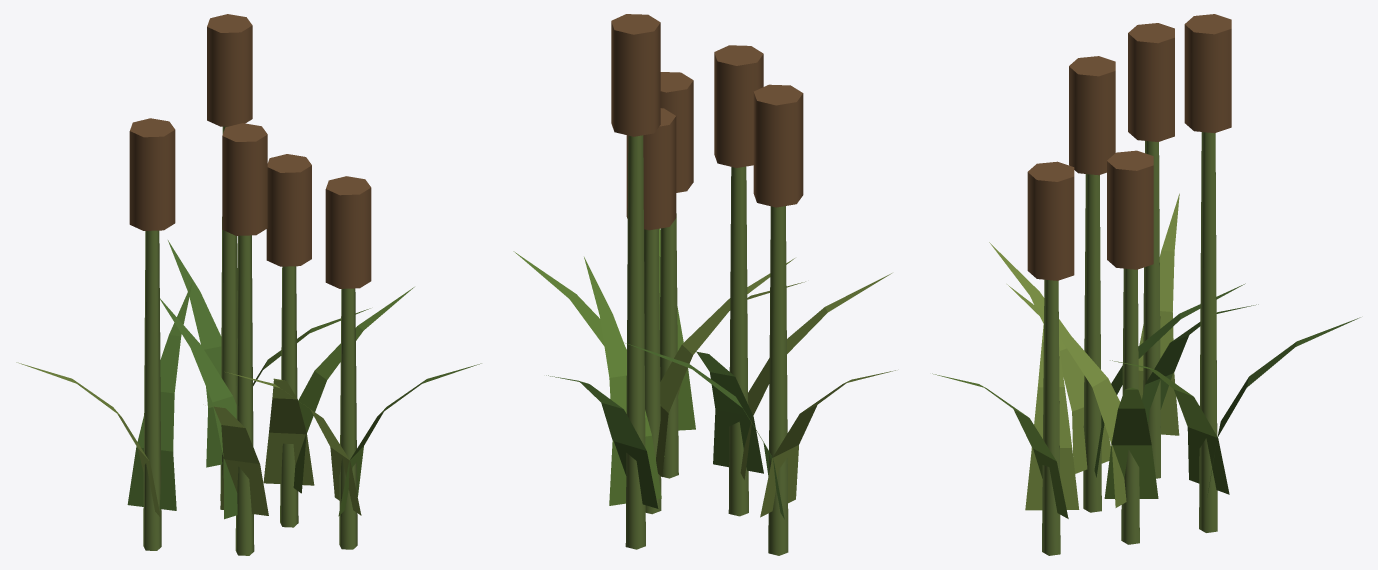
File: pond-reeds.glb
3 views of the same model, side by side, from view 1: azimuth 30°, elevation 25°; view 2: azimuth 150°, elevation 25°; view 3: azimuth 270°, elevation 25° (orthographic). The views are drawn at different scales.
Parts seen in each view (by area): view 1: pond-reeds; view 2: pond-reeds; view 3: pond-reeds.
Boxes of the visible parts, x1,y1,x2,y2 form: pond-reeds: (16,14,481,555); pond-reeds: (513,14,895,555); pond-reeds: (932,14,1360,555).
Size of the model in its own units: 0.8046 by 0.97 by 0.7568.
